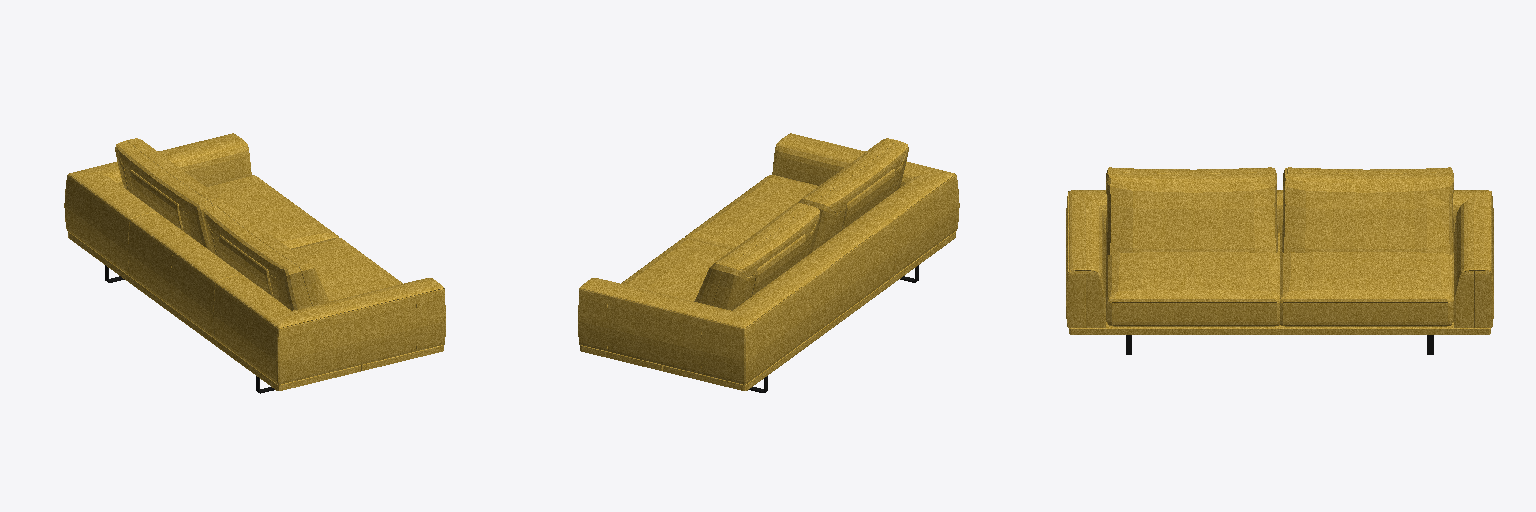
3 views of the same model, side by side, from view 1: azimuth 30°, elevation 25°; view 2: azimuth 150°, elevation 25°; view 3: azimuth 270°, elevation 25° (orthographic).
Visible parts, largest first — view 1: Mesh8_Group11_Group9_Model; view 2: Mesh8_Group11_Group9_Model; view 3: Mesh8_Group11_Group9_Model.
Part boxes in pixels (x1,y1,x2,y2): Mesh8_Group11_Group9_Model: (64, 133, 445, 393); Mesh8_Group11_Group9_Model: (578, 133, 959, 392); Mesh8_Group11_Group9_Model: (1066, 167, 1493, 354).
Bounding box in the file's own units: 0.4601 × 0.3272 × 1.
2 materials, 1 textured.